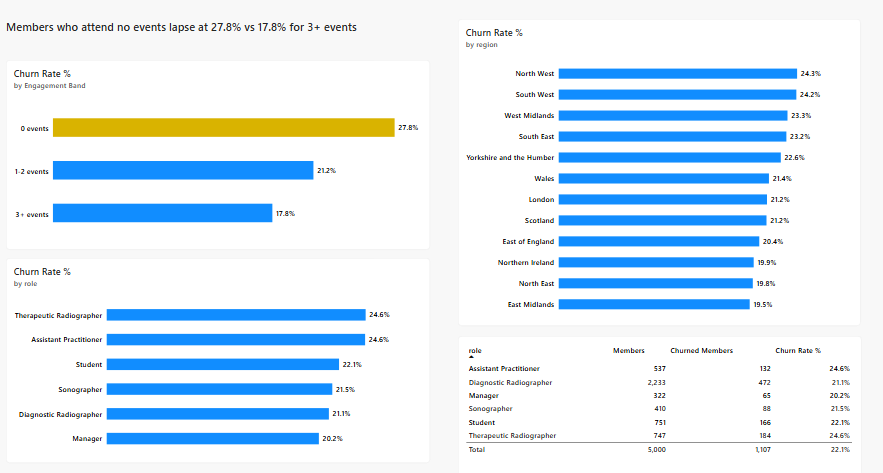

The dashboard page shown, as its layout file describes it:
{"tool":"powerbi","page":{"name":"Lapse risk","canvas":[1920,1080],"ordinal":1},"visuals":[{"type":"clusteredBarChart","fields":{"Category":["dim_member.Engagement Band"],"Y":["-Measures.Churn Rate %"]},"box":[15.1,168.5,915.8,410.4],"z":0},{"type":"barChart","fields":{"Category":["dim_member.role"],"Y":["-Measures.Churn Rate %"]},"box":[15.1,596.2,915.8,442.8],"z":1000},{"type":"barChart","fields":{"Category":["dim_region.region"],"Y":["-Measures.Churn Rate %"]},"box":[991.4,79.9,870.5,663.1],"z":2000},{"type":"tableEx","fields":{"Values":["dim_member.role","-Measures.Members","-Measures.Churned Members","-Measures.Churn Rate %"]},"box":[991.9,763.6,871.6,316.7],"z":3000},{"type":"textbox","title":"Members who attend no events lapse at 27.8% vs 17.8% for 3+ events","box":[15.1,79.9,870.5,79.9],"z":4000}]}

Visuals, with their boxes on the page's 1920x1080 design canvas (x1, y1, x2, y2). These are canvas units, not pixel positions in the 883x473 screenshot, which may show the page scaled, cropped or inside an application window:
clusteredBarChart - dim_member.Engagement Band x -Measures.Churn Rate %: [left=15, top=168, right=931, bottom=579]
barChart - dim_member.role x -Measures.Churn Rate %: [left=15, top=596, right=931, bottom=1039]
barChart - dim_region.region x -Measures.Churn Rate %: [left=991, top=80, right=1862, bottom=743]
tableEx - dim_member.role x -Measures.Members: [left=992, top=764, right=1864, bottom=1080]
"Members who attend no events lapse at 27.8% vs 17.8% for 3+ events" textbox: [left=15, top=80, right=886, bottom=160]
